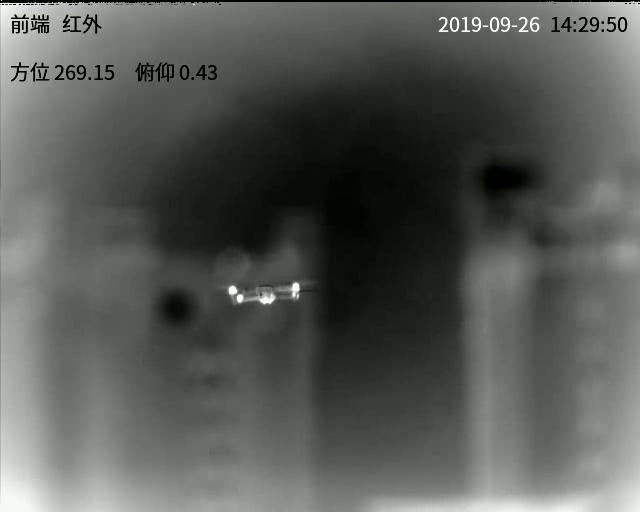DRONE: (228, 281, 302, 308)
